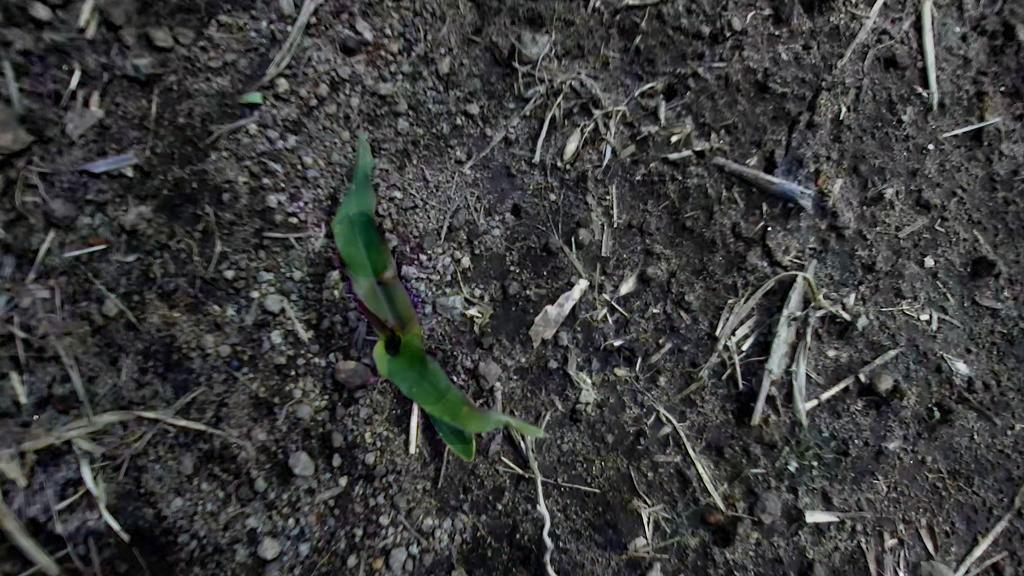BroWeed: (611, 262, 650, 304), (348, 13, 381, 45), (131, 53, 165, 82), (559, 124, 583, 165), (110, 57, 149, 81), (114, 249, 145, 268), (236, 90, 270, 105), (360, 428, 378, 448), (296, 541, 313, 562), (811, 167, 824, 193), (370, 552, 386, 573), (931, 403, 942, 421), (747, 529, 759, 545), (121, 166, 135, 178)
Maize: (259, 116, 551, 497)
